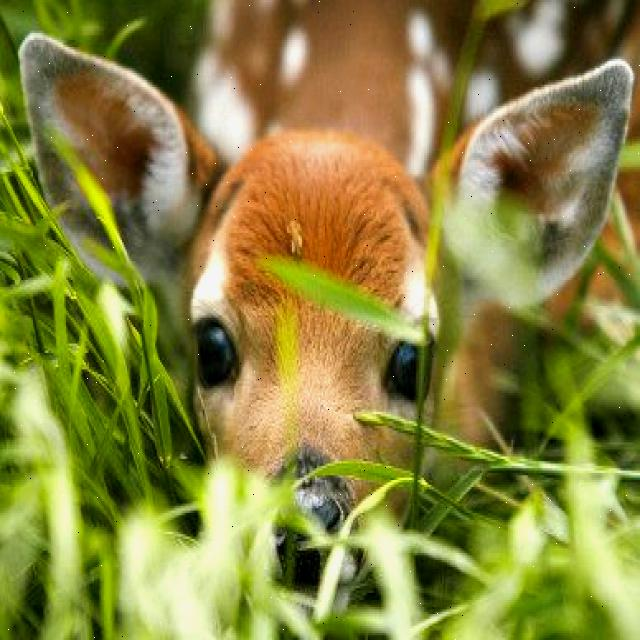deer: (32, 32, 610, 534)
